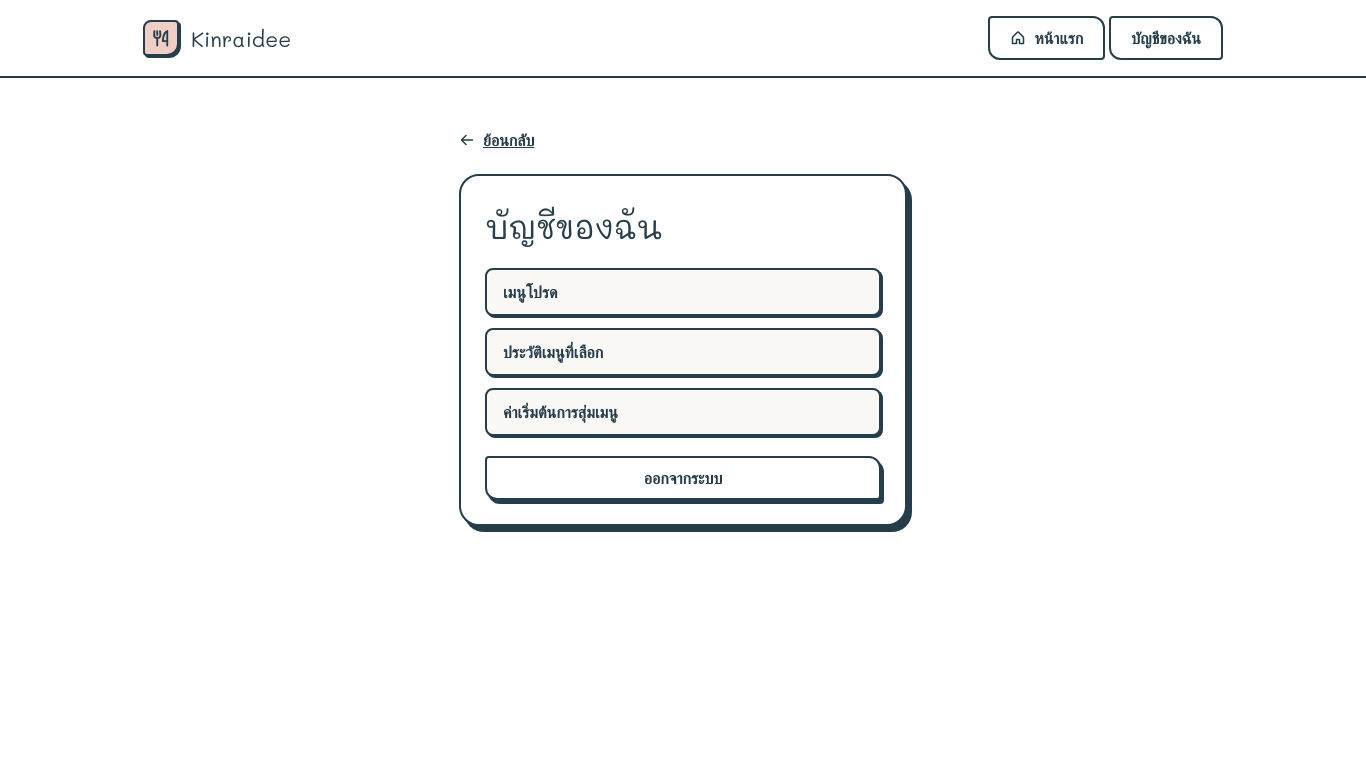
FavoritesPage › is linked from the account page, and logging out drops cached favorites
The width and height of the screenshot is (1366, 768).
Click the link "เมนูโปรด".
click(530, 292)  # box [485, 268, 881, 316]
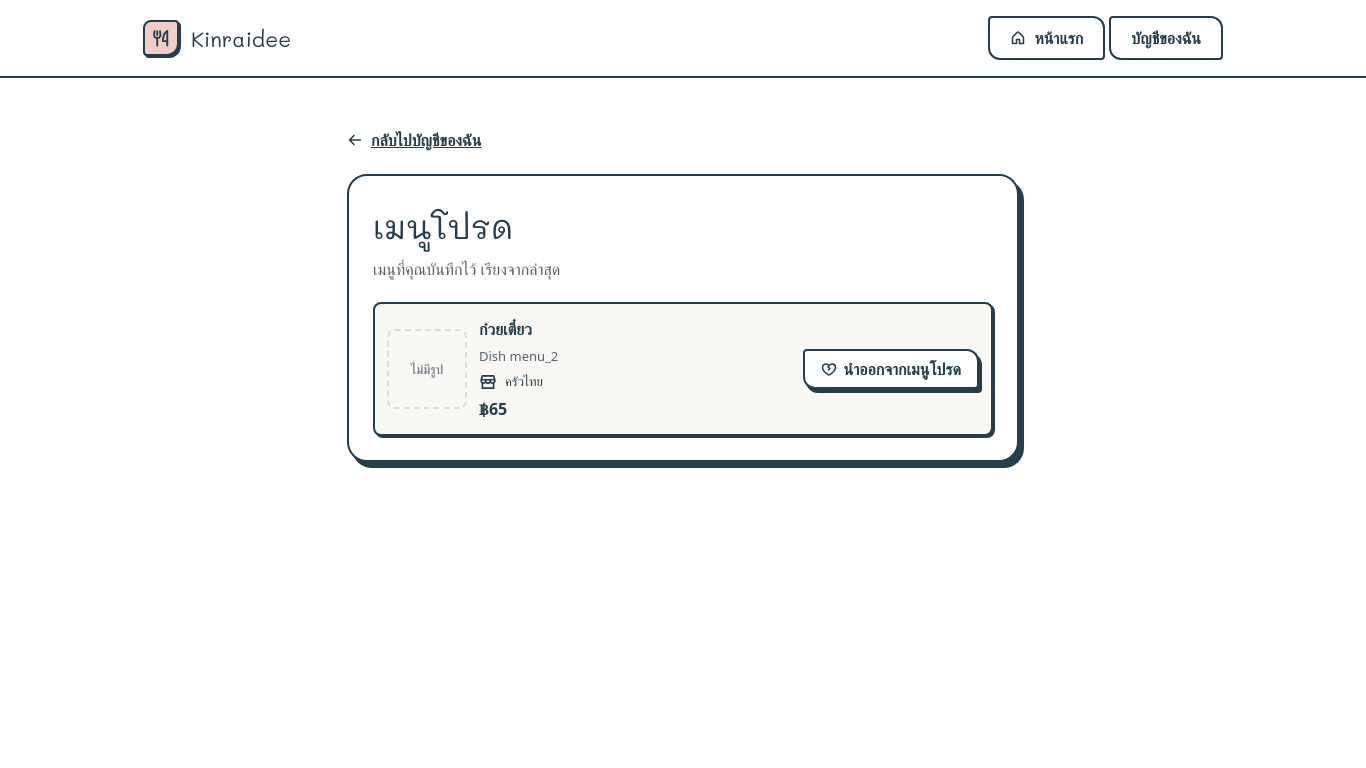
Expected: the text "ก๋วยเตี๋ยว" is shown, [479, 318, 532, 340]
Click the link "กลับไปบัญชีของฉัน".
click(414, 140)  # box [347, 129, 481, 151]
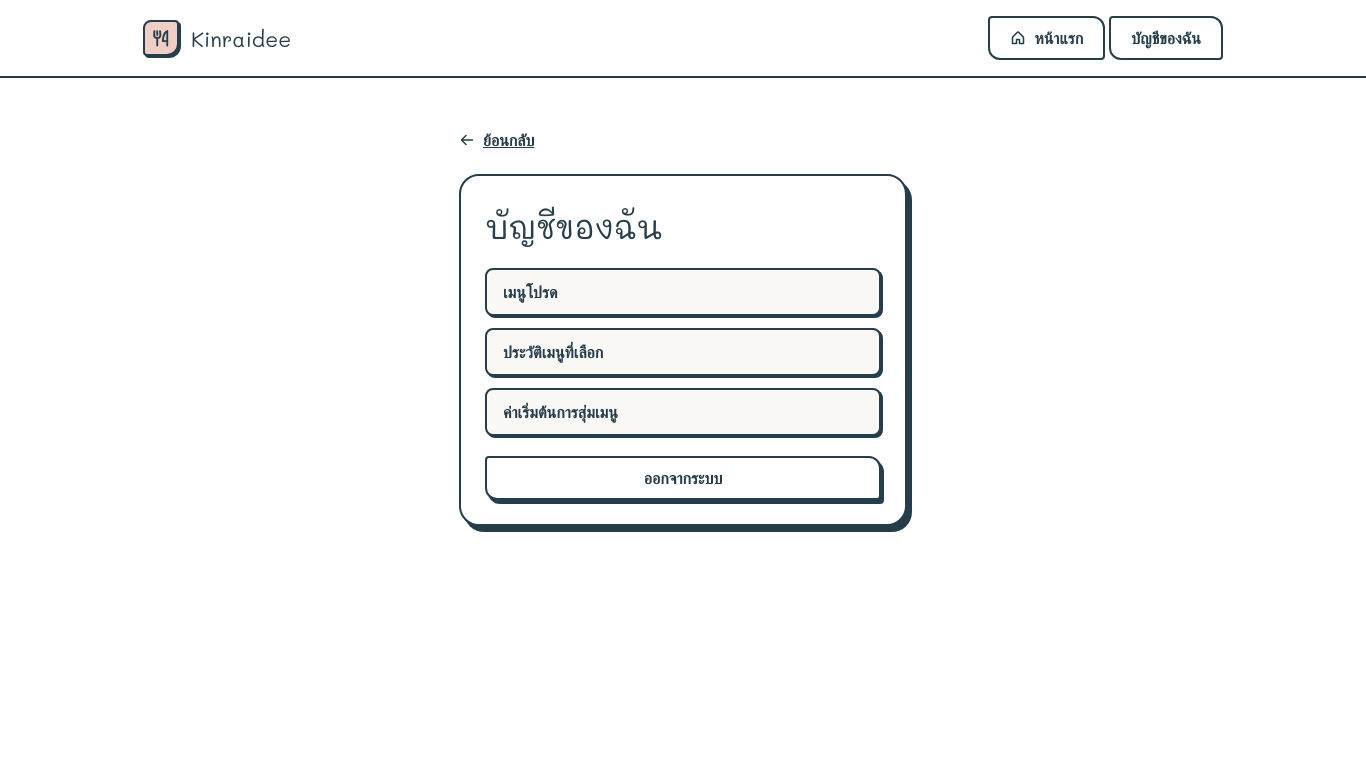
Click the button "ออกจากระบบ".
click(683, 478)  # box [485, 456, 881, 500]
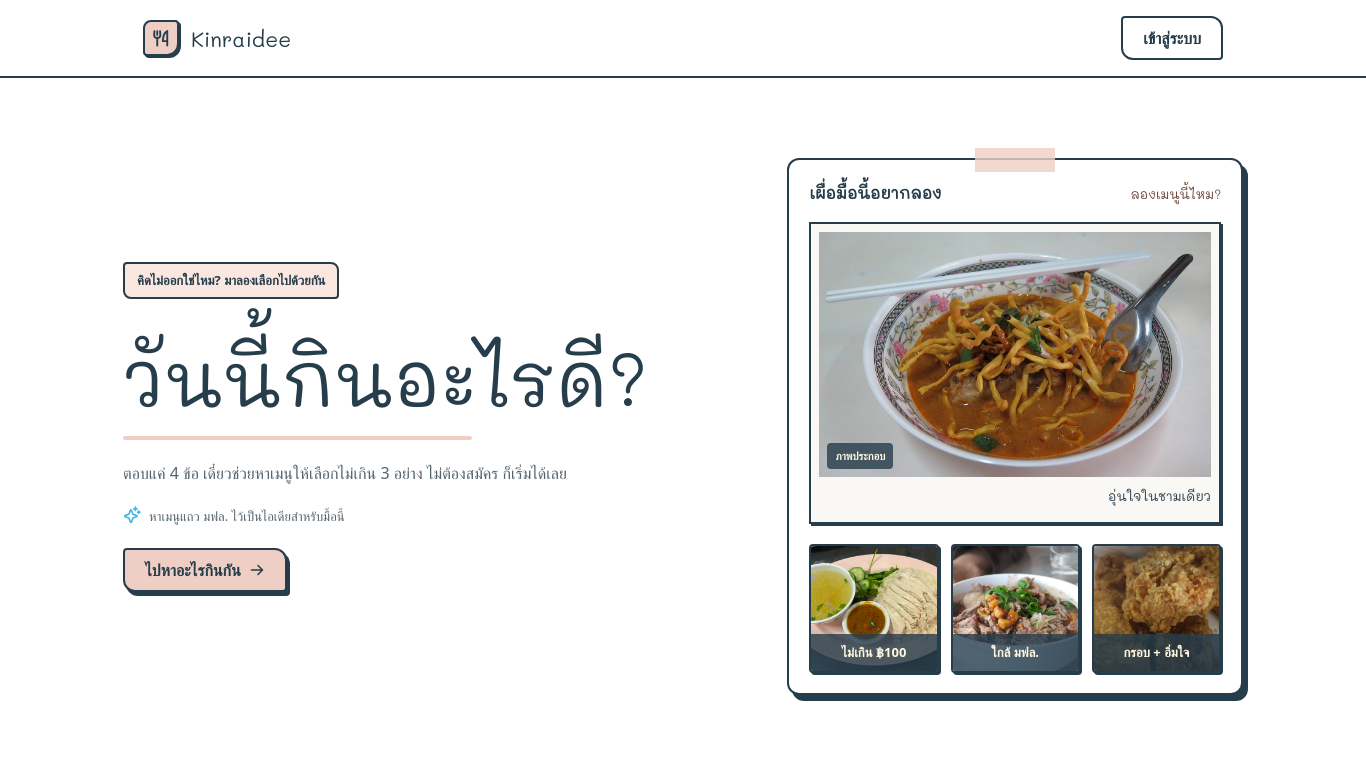
Expected: the heading "วันนี้กินอะไรดี?" is shown, [123, 319, 647, 440]
